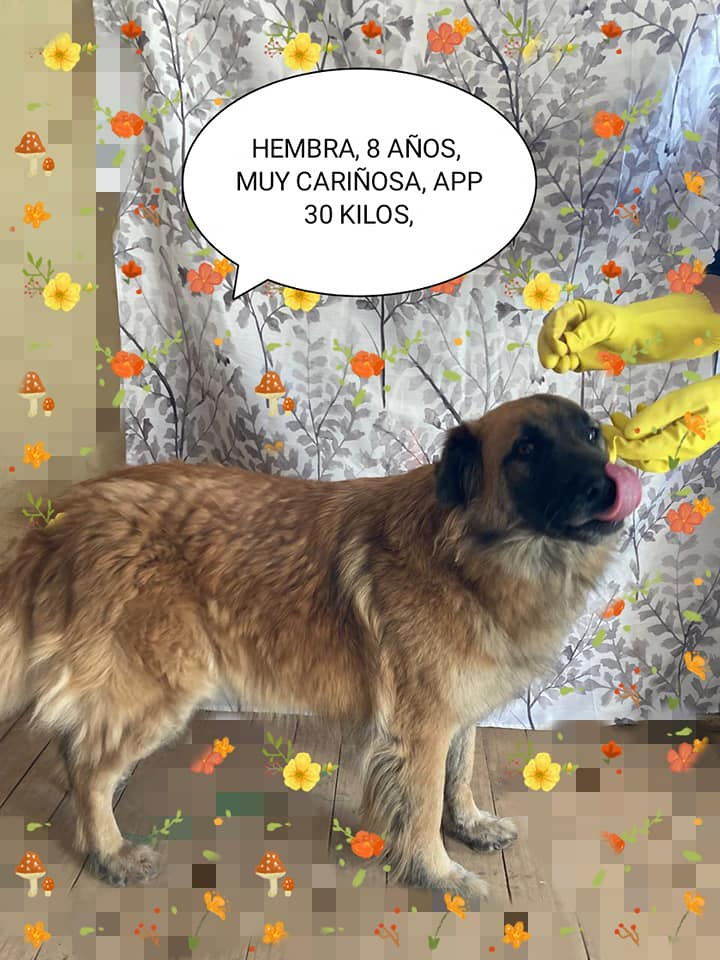dog: (1, 389, 668, 903)
